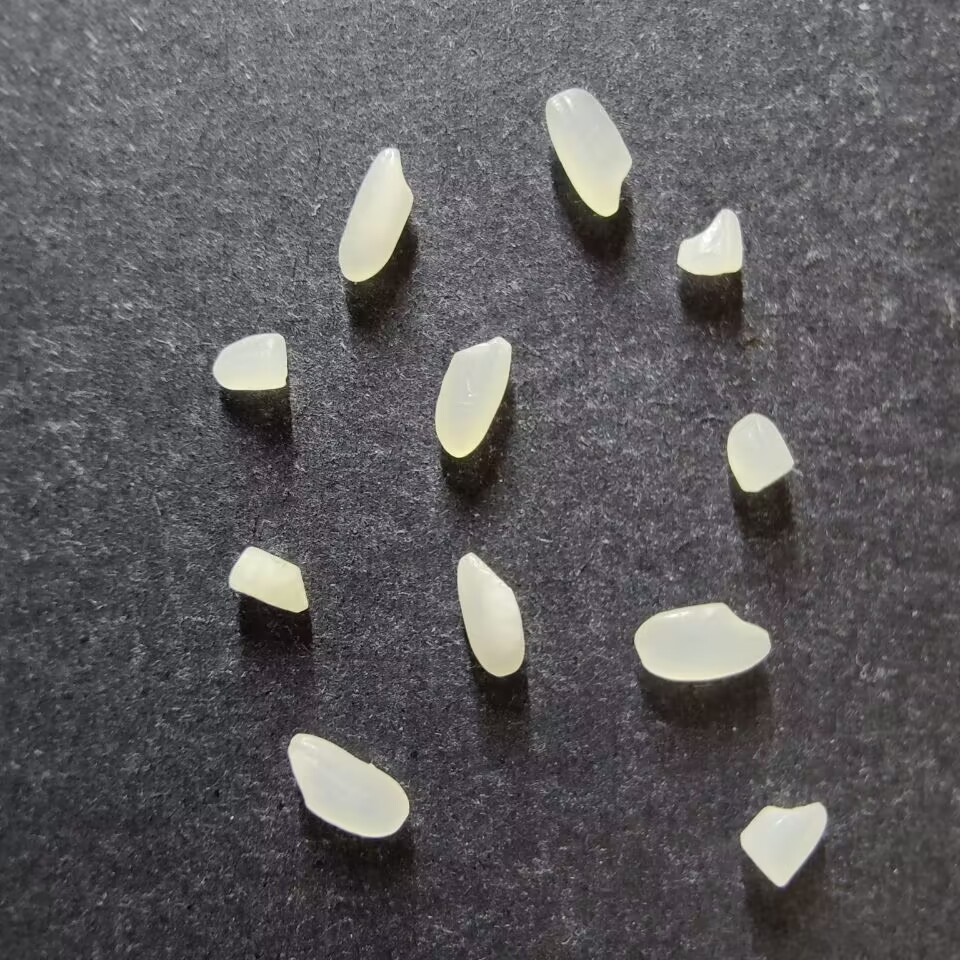broken: (738, 801, 828, 888), (725, 413, 795, 493), (227, 545, 308, 613), (676, 207, 743, 276), (211, 331, 288, 391)
rice: (287, 733, 409, 838), (544, 87, 631, 217), (634, 602, 771, 681), (337, 146, 414, 282), (434, 336, 512, 458), (455, 553, 525, 677)
